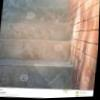Bench: (0, 0, 83, 92)
